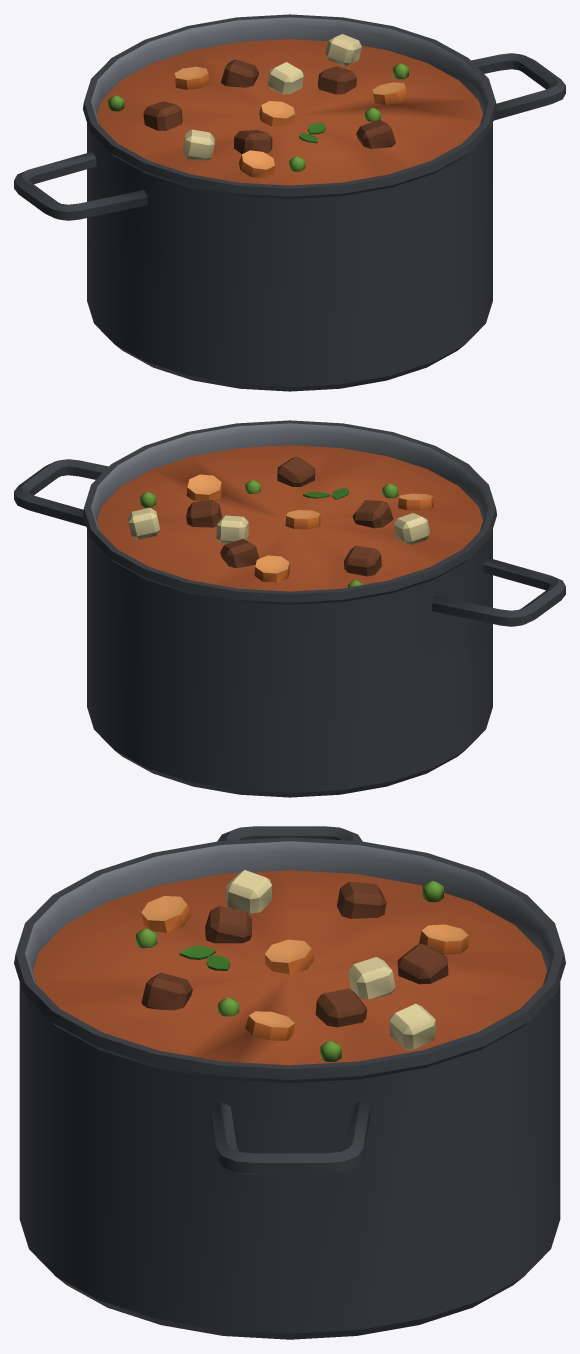
The model's file is mealPot.glb.
The picture shows the model from 3 angles, top to bottom: view 1: azimuth 30°, elevation 25°; view 2: azimuth 150°, elevation 25°; view 3: azimuth 270°, elevation 25°; orthographic projection. The views are drawn at different scales.
Parts seen in each view (by area): view 1: mealPot; view 2: mealPot; view 3: mealPot.
Part boxes in pixels (x1,y1,x2,y2): mealPot: (14, 14, 565, 391); mealPot: (14, 420, 565, 797); mealPot: (14, 826, 565, 1339).
Size of the model in its own units: 0.388 by 0.1546 by 0.2696.
